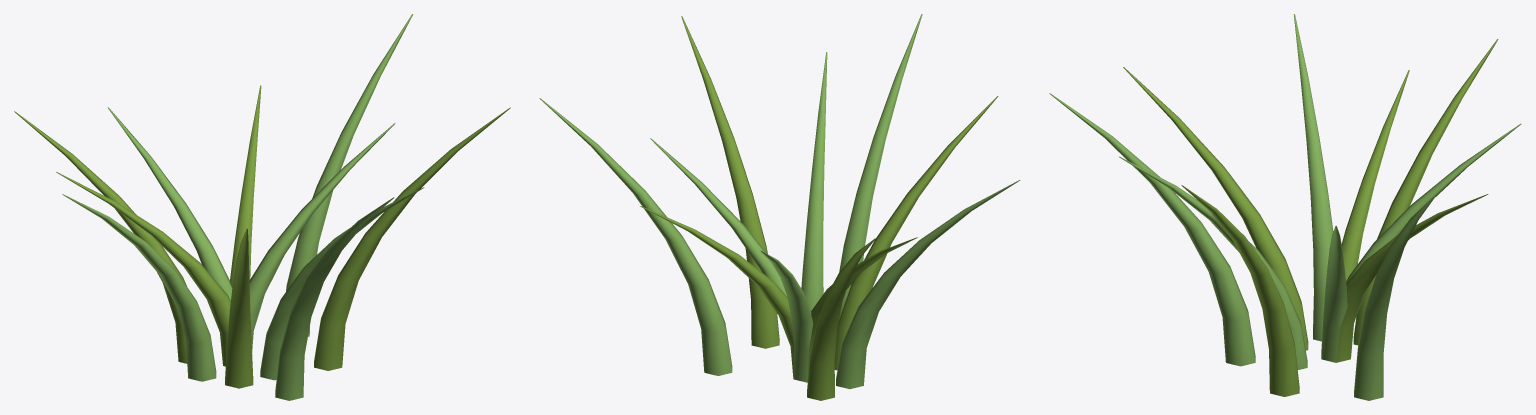
The model's file is grass.glb.
3 renders of one model, left to right at view 1: azimuth 30°, elevation 25°; view 2: azimuth 150°, elevation 25°; view 3: azimuth 270°, elevation 25°, orthographic. The views are drawn at different scales.
Parts seen in each view (by area): view 1: Closed rounded tapered grass blade 006, Closed rounded tapered grass blade 003, Closed rounded tapered grass blade 005, Closed rounded tapered grass blade 009, Closed rounded tapered grass blade 008, Closed rounded tapered grass blade 001, Closed rounded tapered grass blade 010, Closed rounded tapered grass blade 007, Closed rounded tapered grass blade 011, Closed rounded tapered grass blade 002, Closed rounded tapered grass blade 004; view 2: Closed rounded tapered grass blade 009, Closed rounded tapered grass blade 006, Closed rounded tapered grass blade 005, Closed rounded tapered grass blade 008, Closed rounded tapered grass blade 011, Closed rounded tapered grass blade 003, Closed rounded tapered grass blade 002, Closed rounded tapered grass blade 007, Closed rounded tapered grass blade 004, Closed rounded tapered grass blade 001, Closed rounded tapered grass blade 010; view 3: Closed rounded tapered grass blade 003, Closed rounded tapered grass blade 006, Closed rounded tapered grass blade 005, Closed rounded tapered grass blade 009, Closed rounded tapered grass blade 008, Closed rounded tapered grass blade 002, Closed rounded tapered grass blade 010, Closed rounded tapered grass blade 004, Closed rounded tapered grass blade 001, Closed rounded tapered grass blade 011, Closed rounded tapered grass blade 007.
Boxes of the visible parts, x1,y1,x2,y2 form: Closed rounded tapered grass blade 006: (314, 107, 510, 370); Closed rounded tapered grass blade 003: (275, 197, 394, 400); Closed rounded tapered grass blade 005: (62, 194, 216, 381); Closed rounded tapered grass blade 009: (286, 14, 413, 336); Closed rounded tapered grass blade 008: (225, 228, 253, 388); Closed rounded tapered grass blade 001: (249, 123, 395, 352); Closed rounded tapered grass blade 010: (56, 172, 230, 366); Closed rounded tapered grass blade 007: (107, 107, 232, 300); Closed rounded tapered grass blade 011: (260, 187, 424, 380); Closed rounded tapered grass blade 002: (14, 111, 187, 363); Closed rounded tapered grass blade 004: (230, 85, 261, 287); Closed rounded tapered grass blade 009: (539, 98, 732, 375); Closed rounded tapered grass blade 006: (681, 16, 779, 348); Closed rounded tapered grass blade 005: (836, 180, 1020, 389); Closed rounded tapered grass blade 008: (834, 96, 998, 370); Closed rounded tapered grass blade 011: (801, 52, 827, 310); Closed rounded tapered grass blade 003: (839, 14, 922, 317); Closed rounded tapered grass blade 002: (807, 238, 875, 400); Closed rounded tapered grass blade 007: (760, 250, 813, 382); Closed rounded tapered grass blade 004: (640, 206, 793, 376); Closed rounded tapered grass blade 001: (650, 138, 787, 296); Closed rounded tapered grass blade 010: (807, 237, 917, 382); Closed rounded tapered grass blade 003: (1049, 93, 1255, 366); Closed rounded tapered grass blade 006: (1181, 185, 1299, 396); Closed rounded tapered grass blade 005: (1293, 14, 1333, 341); Closed rounded tapered grass blade 009: (1354, 196, 1434, 400); Closed rounded tapered grass blade 008: (1123, 67, 1308, 350); Closed rounded tapered grass blade 002: (1353, 39, 1498, 345); Closed rounded tapered grass blade 010: (1341, 70, 1409, 280); Closed rounded tapered grass blade 004: (1336, 194, 1488, 362); Closed rounded tapered grass blade 001: (1321, 225, 1347, 362); Closed rounded tapered grass blade 011: (1119, 156, 1307, 369); Closed rounded tapered grass blade 007: (1346, 123, 1521, 356).
Size of the model in its own units: 0.3706 by 0.22 by 0.3453.
Materials: 2 (2 with a texture image).
